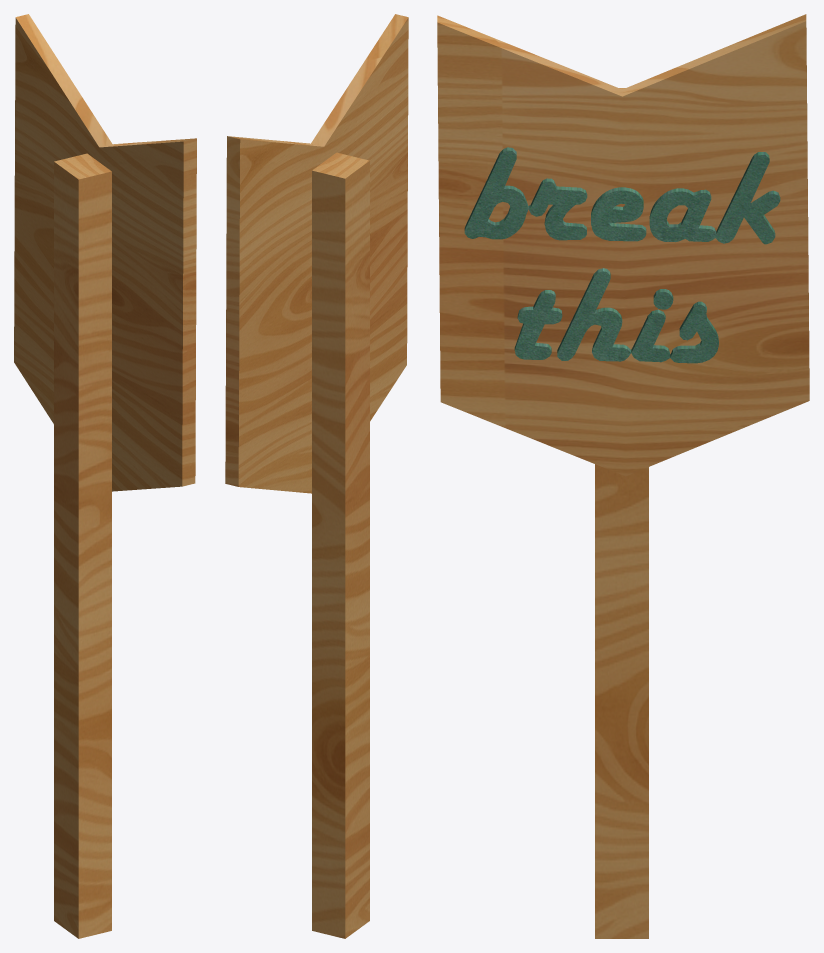
Rendered from Armour_Stand_Sign1.fbx.
3 views of the same model, side by side, from view 1: azimuth 30°, elevation 25°; view 2: azimuth 150°, elevation 25°; view 3: azimuth 270°, elevation 25° (orthographic). The views are drawn at different scales.
Visible parts, largest first — view 1: Armour_Stand_Sign1; view 2: Armour_Stand_Sign1; view 3: Armour_Stand_Sign1.
Part boxes in pixels (left/top/right/bottom): Armour_Stand_Sign1: left=14, top=14, right=196, bottom=938; Armour_Stand_Sign1: left=225, top=14, right=408, bottom=938; Armour_Stand_Sign1: left=437, top=14, right=809, bottom=938.
Size of the model in its own units: 7.82 by 120 by 43.87.
